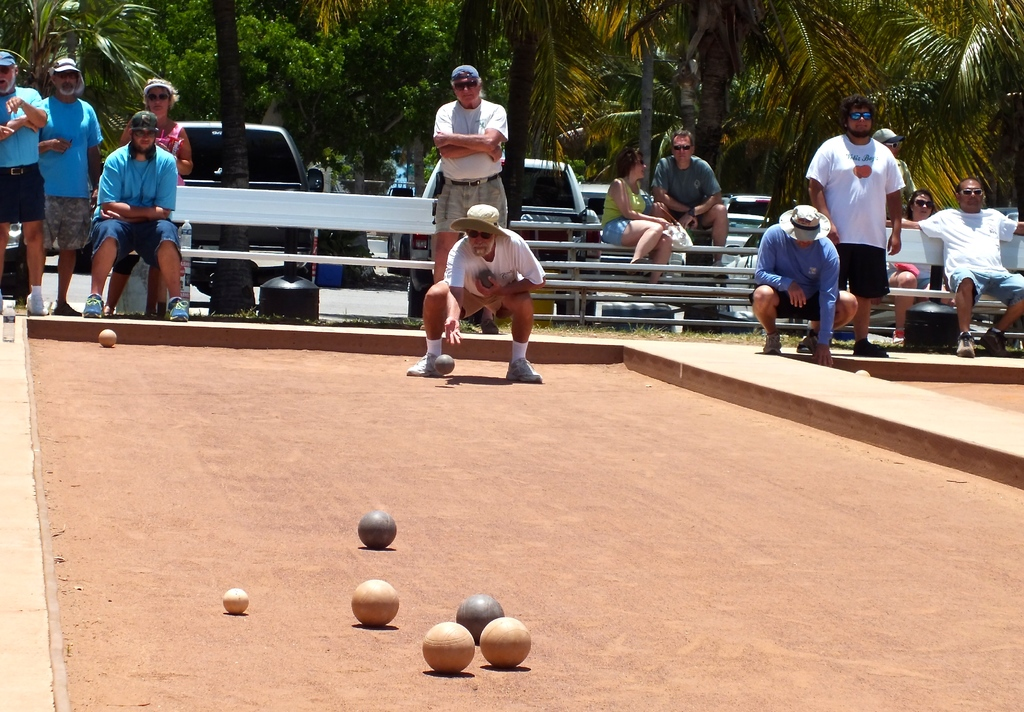Person: (0, 48, 193, 321), (601, 146, 678, 286), (889, 187, 953, 347), (868, 127, 919, 218)
